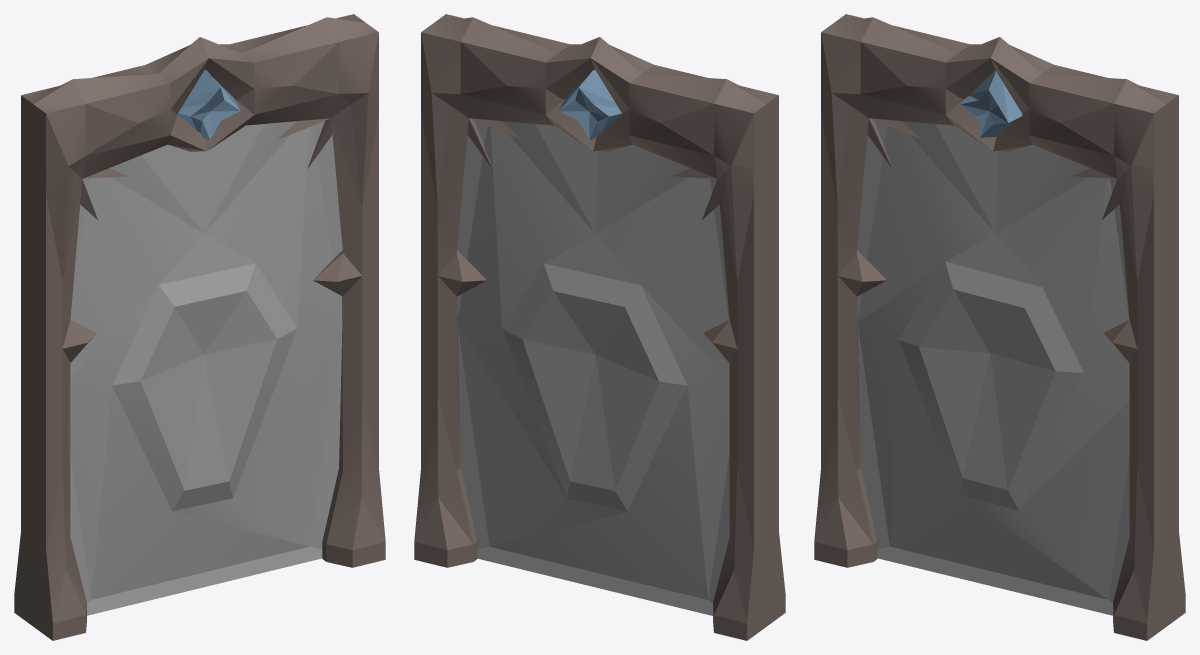
The model's file is door02.fbx.
The picture shows the model from 3 angles, left to right: view 1: azimuth 30°, elevation 25°; view 2: azimuth 150°, elevation 25°; view 3: azimuth 330°, elevation 25°; orthographic projection.
Visible parts, largest first — view 1: door, frame, crystal; view 2: door, frame, crystal; view 3: door, frame, crystal.
Part boxes in pixels (x1,y1,x2,y2): door: (70, 121, 342, 615); frame: (14, 14, 385, 640); crystal: (177, 70, 240, 139); door: (457, 121, 729, 615); frame: (414, 14, 785, 640); crystal: (559, 70, 622, 139); door: (857, 121, 1129, 615); frame: (814, 14, 1185, 640); crystal: (960, 70, 1022, 137).
Size of the model in its own units: 200 by 315 by 40.15.
